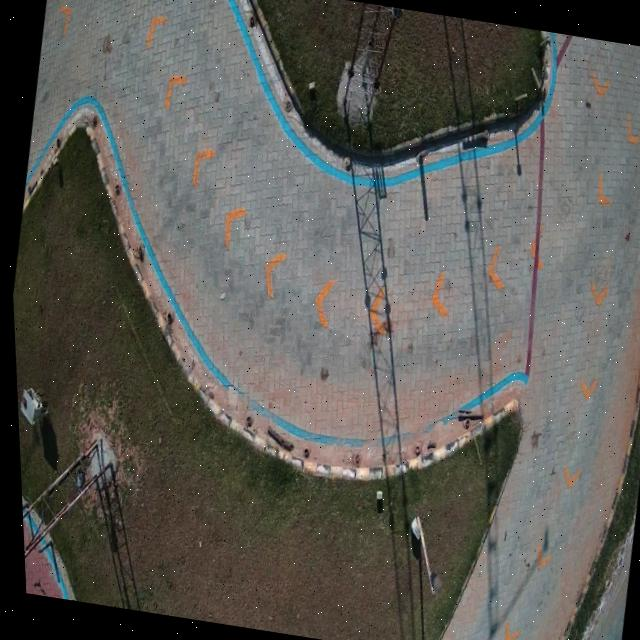No Car: (10, 0, 640, 640)
